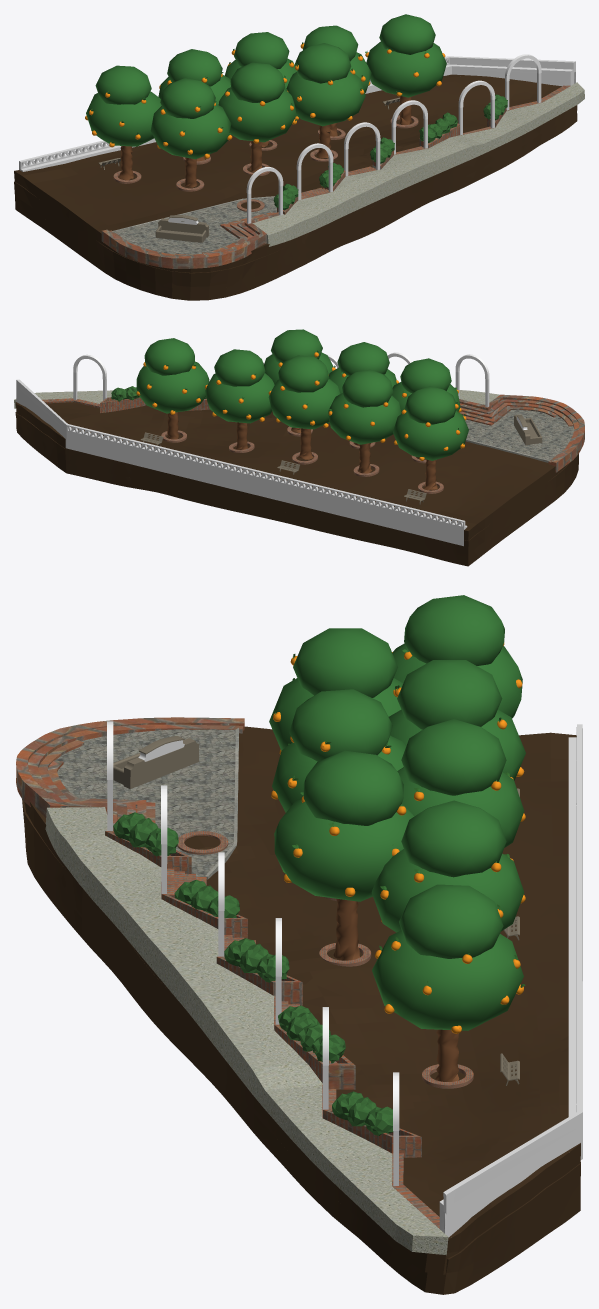
Rendered from orange-garden.glb.
3 renders of one model, top to bottom at view 1: azimuth 30°, elevation 25°; view 2: azimuth 150°, elevation 25°; view 3: azimuth 270°, elevation 25°, orthographic. The views are drawn at different scales.
Parts seen in each view (by area): view 1: Retopo_Cube.007, Tree, renxingdao, huatan01, Retopo_立方体.030, diban.001, Bush_average, 立方体.010, Retopo_立方体.029, 球体.001; view 2: Retopo_Cube.007, Tree, Retopo_立方体.030, huatan01, diban.001, Retopo_立方体.029, renxingdao, 球体.001, 立方体.010, Bush_average; view 3: Retopo_Cube.007, Tree, renxingdao, huatan01, Retopo_立方体.030, diban.001, Bush_average, Retopo_立方体.029, 立方体.010, 球体.001.
Part boxes in pixels (left/top/right/bottom): Retopo_Cube.007: left=14, top=74, right=577, bottom=300; Tree: left=86, top=14, right=446, bottom=187; renxingdao: left=252, top=82, right=584, bottom=246; huatan01: left=101, top=85, right=570, bottom=268; Retopo_立方体.030: left=19, top=56, right=575, bottom=224; diban.001: left=114, top=197, right=276, bottom=254; Bush_average: left=273, top=94, right=507, bottom=210; 立方体.010: left=246, top=54, right=541, bottom=193; Retopo_立方体.029: left=98, top=97, right=399, bottom=242; 球体.001: left=85, top=43, right=445, bottom=158; Retopo_Cube.007: left=15, top=402, right=578, bottom=566; Tree: left=136, top=329, right=468, bottom=490; Retopo_立方体.030: left=16, top=372, right=527, bottom=546; huatan01: left=42, top=394, right=584, bottom=493; diban.001: left=465, top=406, right=574, bottom=460; Retopo_立方体.029: left=140, top=414, right=542, bottom=504; renxingdao: left=14, top=390, right=499, bottom=408; 球体.001: left=136, top=352, right=466, bottom=460; 立方体.010: left=73, top=352, right=489, bottom=379; Bush_average: left=111, top=386, right=206, bottom=401; Retopo_Cube.007: left=22, top=726, right=580, bottom=1294; Tree: left=269, top=595, right=525, bottom=1081; renxingdao: left=45, top=807, right=448, bottom=1255; huatan01: left=16, top=717, right=473, bottom=1228; Retopo_立方体.030: left=107, top=724, right=582, bottom=1237; diban.001: left=55, top=729, right=235, bottom=876; Bush_average: left=113, top=812, right=393, bottom=1135; Retopo_立方体.029: left=113, top=736, right=519, bottom=1085; 立方体.010: left=107, top=721, right=399, bottom=1130; 球体.001: left=271, top=642, right=525, bottom=1033.
Size of the model in its own units: 37.39 by 10.54 by 18.67.
Materials: 13 (4 with a texture image).
